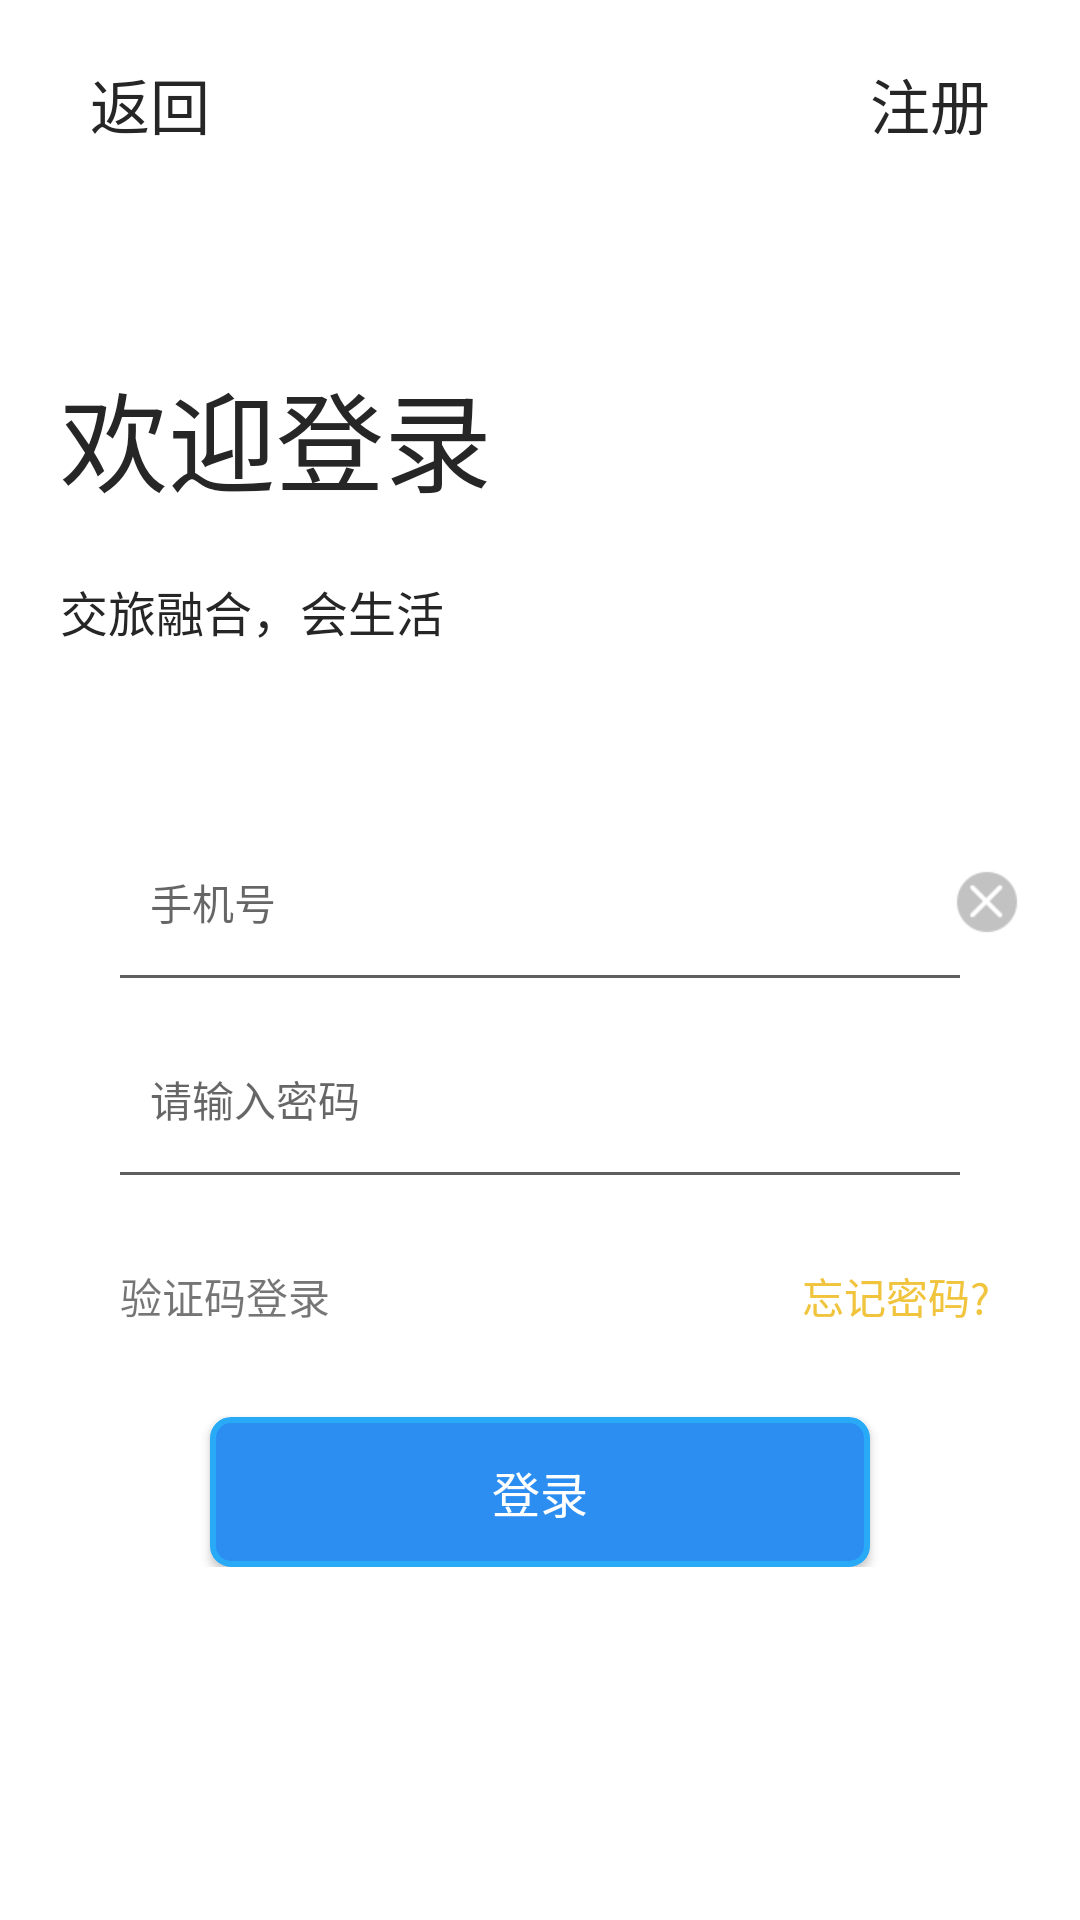

Screen size 1080x1920. Icon name, then its box in pixels as (x1, y1, x2, y2):
login closeimg: (957, 872, 1017, 932)
